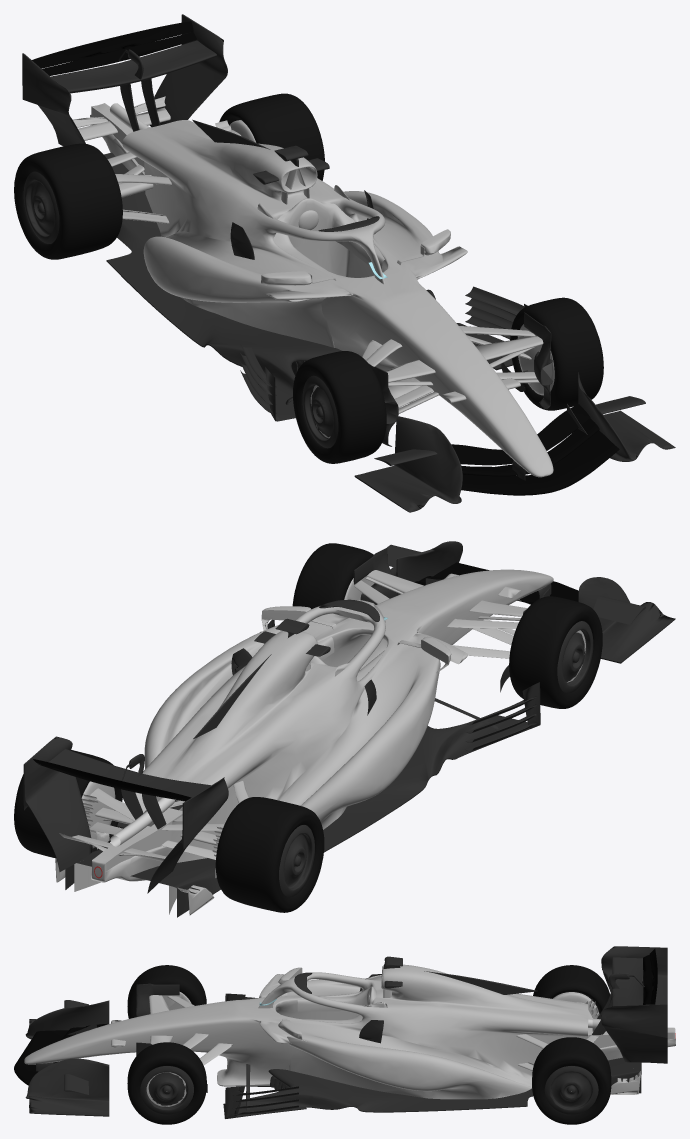
The model's file is f1-car.glb.
The picture shows the model from 3 angles, top to bottom: view 1: azimuth 30°, elevation 25°; view 2: azimuth 150°, elevation 25°; view 3: azimuth 270°, elevation 25°; orthographic projection. The views are drawn at different scales.
Visible parts, largest first — view 1: FRONT NOSE__0, Body18_Steel - Satin_0; view 2: FRONT NOSE__0, Body18_Steel - Satin_0; view 3: FRONT NOSE__0, Body18_Steel - Satin_0.
Part boxes in pixels (x1,y1,x2,y2): FRONT NOSE__0: (32, 21, 619, 495); Body18_Steel - Satin_0: (14, 14, 675, 512); FRONT NOSE__0: (33, 562, 585, 915); Body18_Steel - Satin_0: (14, 541, 675, 917); FRONT NOSE__0: (14, 948, 675, 1106); Body18_Steel - Satin_0: (25, 946, 675, 1124).
Bounding box in the file's own units: 1.65 × 0.9577 × 4.79.
Materials: 2 (2 with a texture image).
